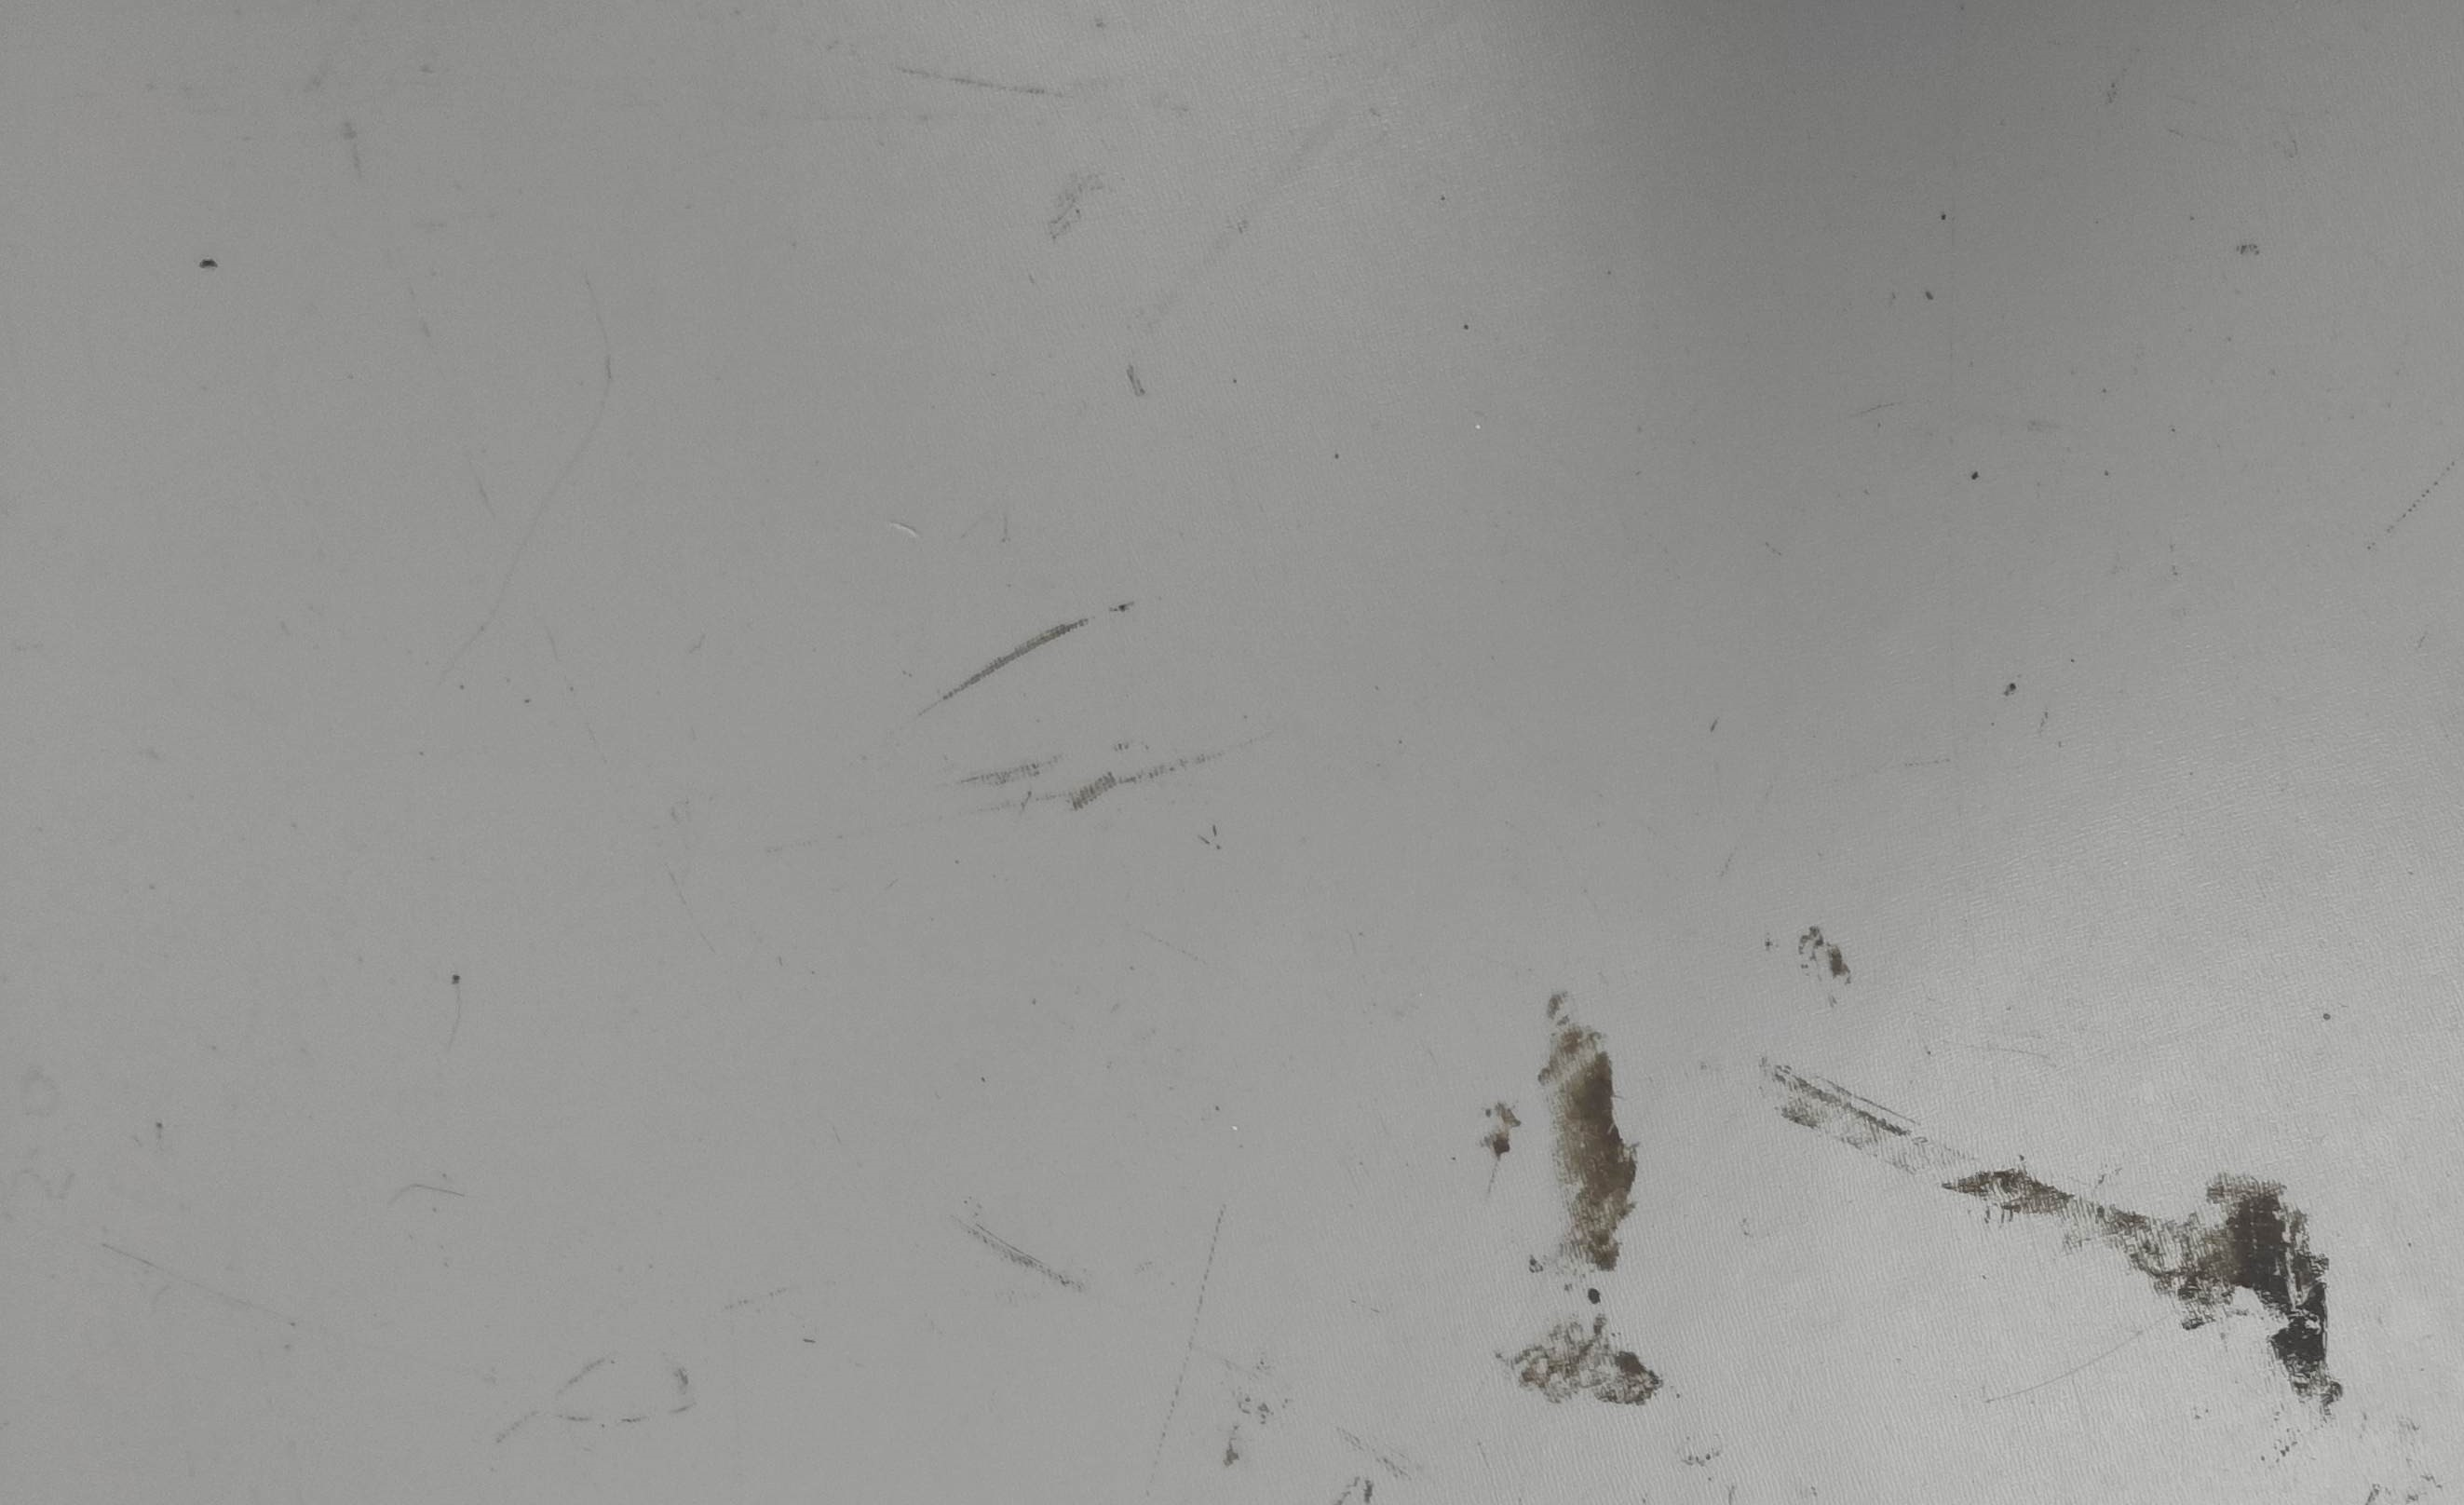grey spot: (1758, 1056, 2343, 1417), (1478, 987, 1667, 1410), (1764, 924, 1852, 1007)
